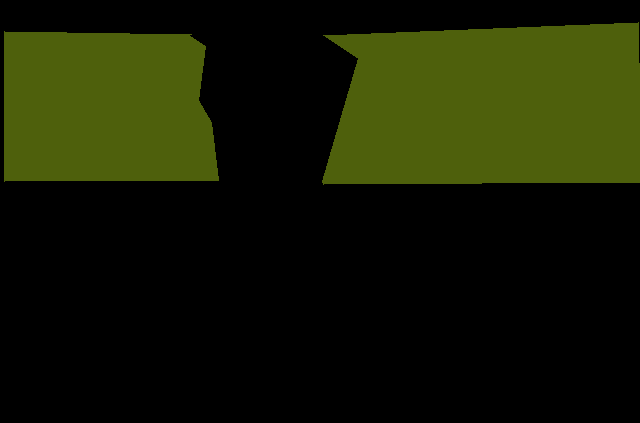Train: (4, 22, 640, 184)
